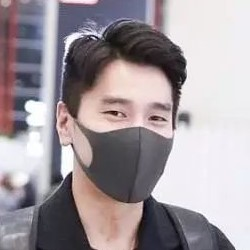mask: (57, 108, 176, 208)
